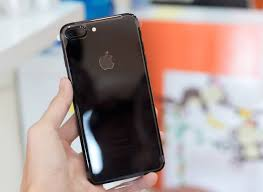iphone: (53, 10, 167, 188)
